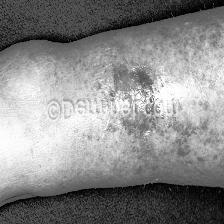Toxin: (108, 72, 162, 136)
